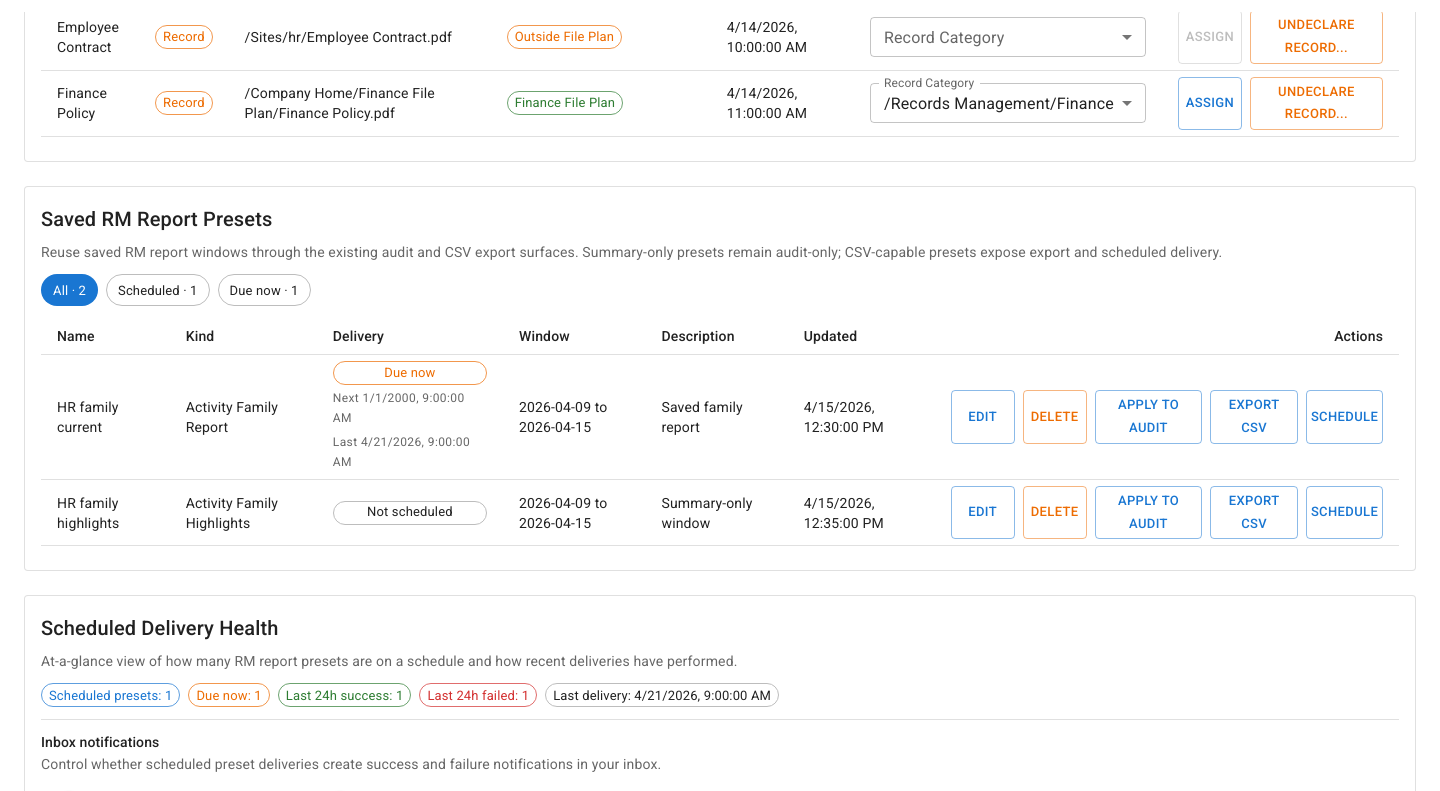
Scenario: RecordsManagementPage › applies a saved RM report preset to the existing audit surface
(page scrolled)
expect the element "Saved RM Report Presets" is shown: met, box [24,186,1416,571]
expect the text "HR family current" is shown: met, box [57,399,119,435]
Click the button "Apply to audit" in the row of "HR family current".
click(1148, 417)  # box [1095,390,1202,444]
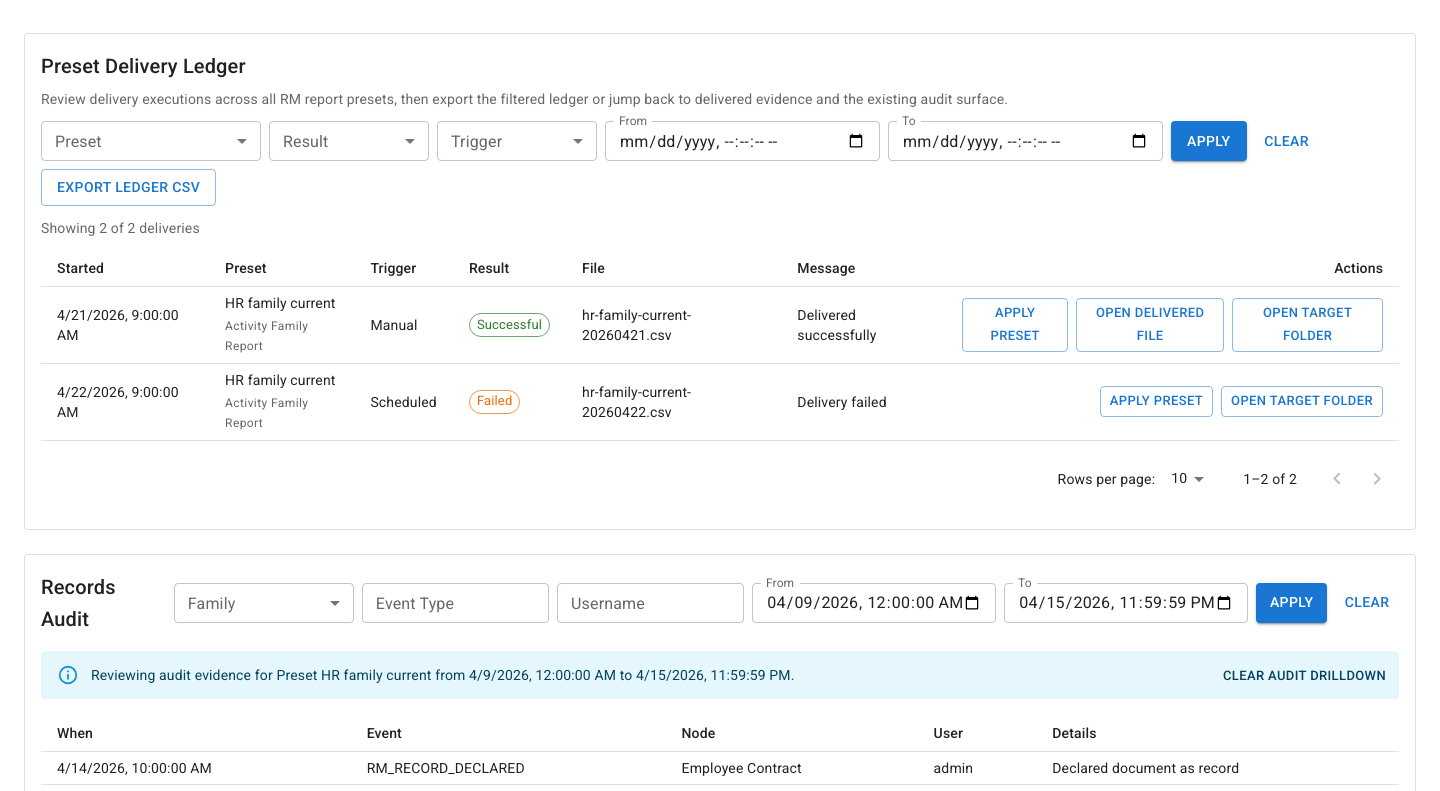
expect the text "Reviewing audit evidence for Preset HR family current" is shown: met, box [91,666,794,682]
